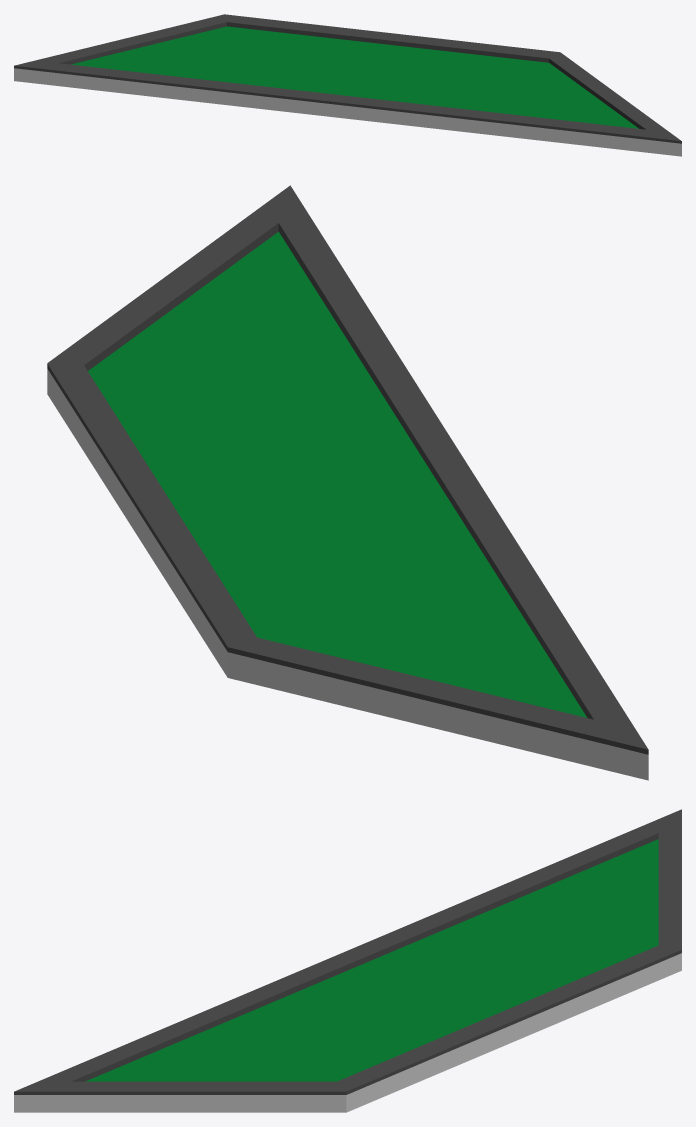
Rendered from Flowerbed-10.fbx.
The picture shows the model from 3 angles, top to bottom: view 1: azimuth 30°, elevation 25°; view 2: azimuth 150°, elevation 25°; view 3: azimuth 270°, elevation 25°; orthographic projection. The views are drawn at different scales.
Parts seen in each view (by area): view 1: Flowerbed-10; view 2: Flowerbed-10; view 3: Flowerbed-10.
Part boxes in pixels (x1,y1,x2,y2): Flowerbed-10: [14, 14, 681, 156]; Flowerbed-10: [47, 185, 648, 780]; Flowerbed-10: [14, 809, 681, 1112].
Size of what is drawn, in the model's own units: 12.68 by 0.4412 by 12.68.
